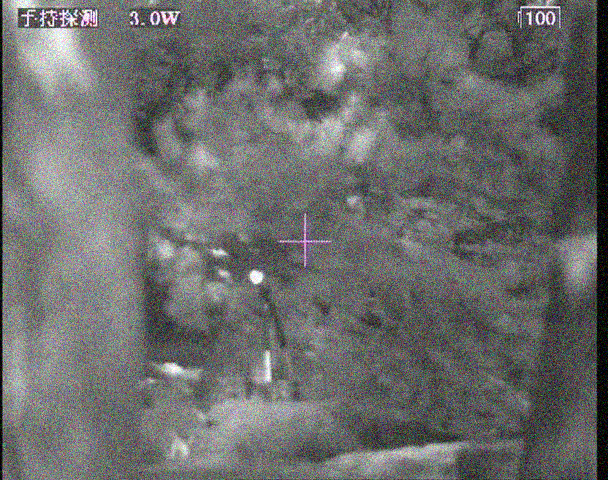my: (247, 269, 262, 286)
